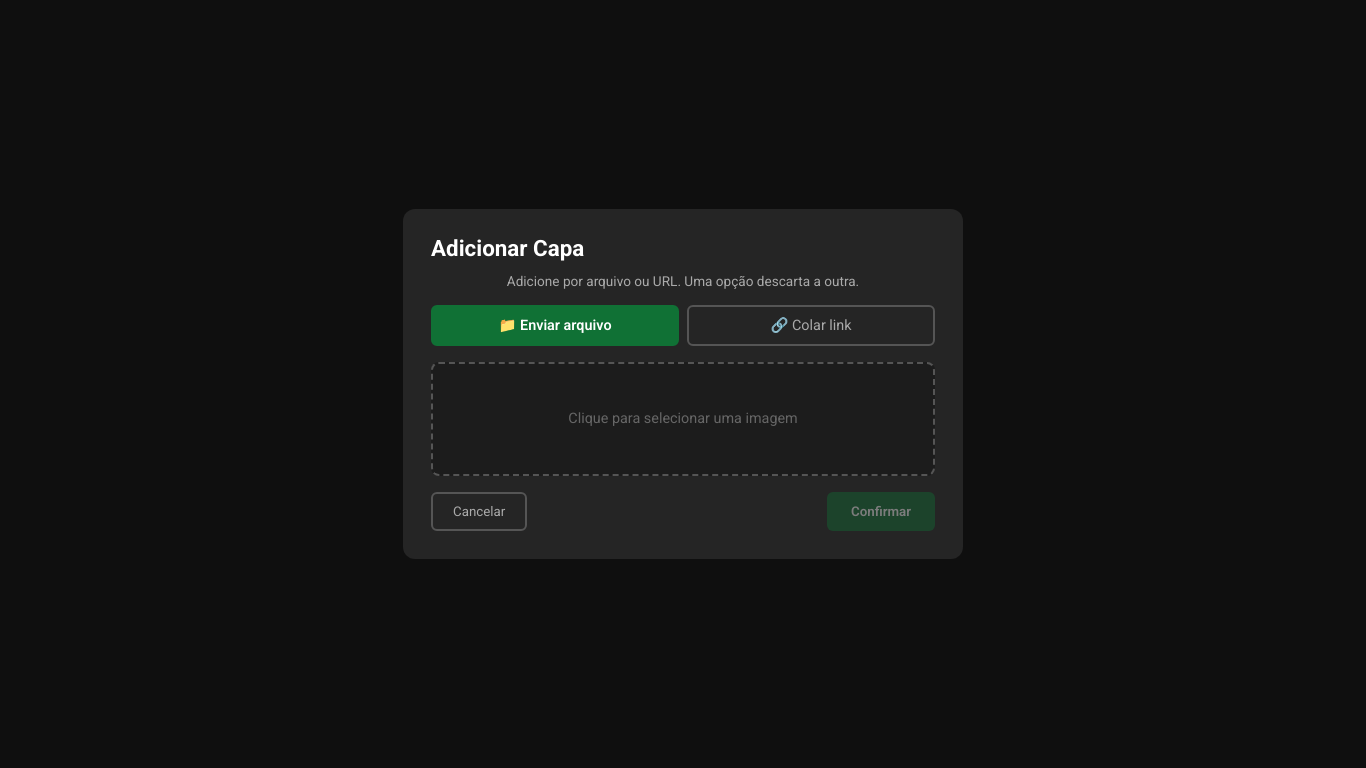
Test: ImagePickerModal — guarda de descarte › 'Cancelar' abre confirmação de descarte quando já há uma URL preenchida
Click the button "🔗 Colar link".
click(811, 325)  # box [687, 305, 935, 346]
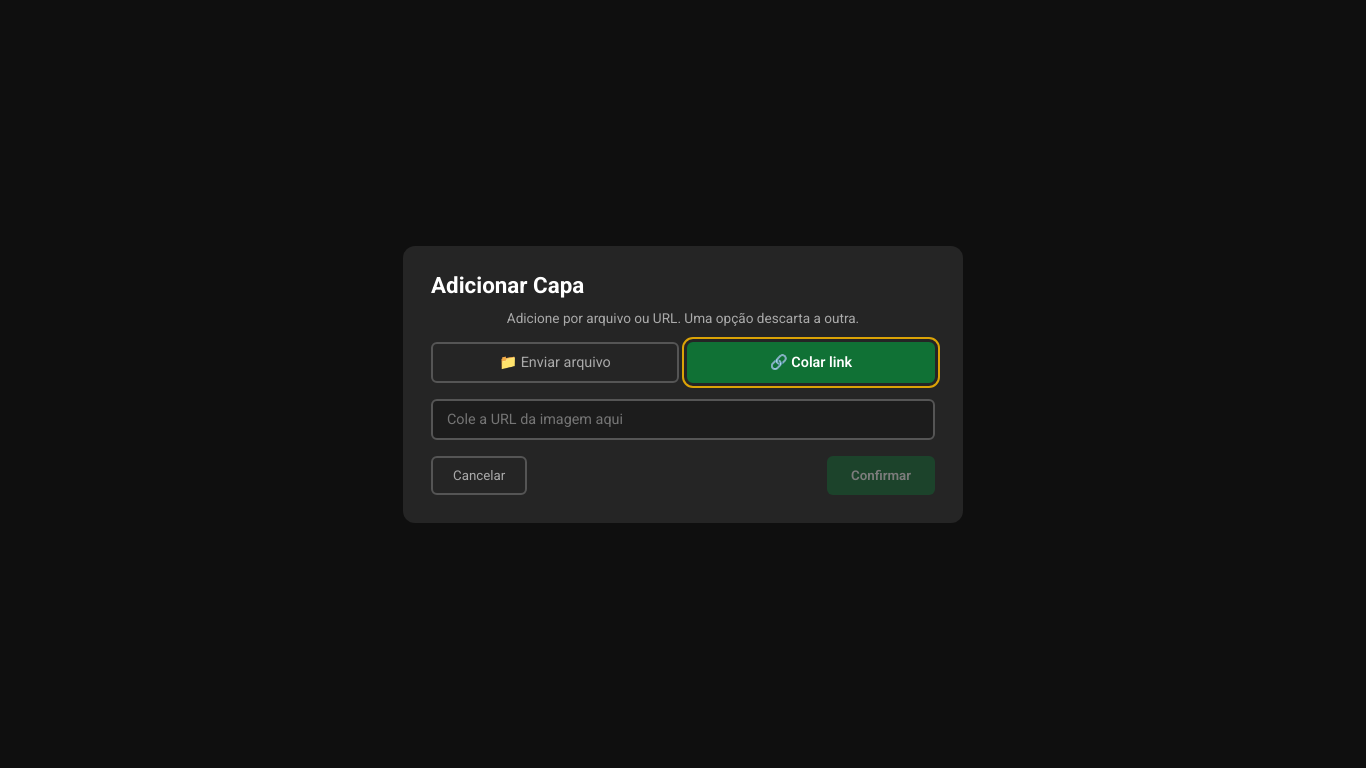
Type "https://example.com/img.png" into the field with placeholder "Cole a URL da imagem aqui".
click(683, 419); type("https://example.com/img.png")  # box [431, 398, 935, 440]
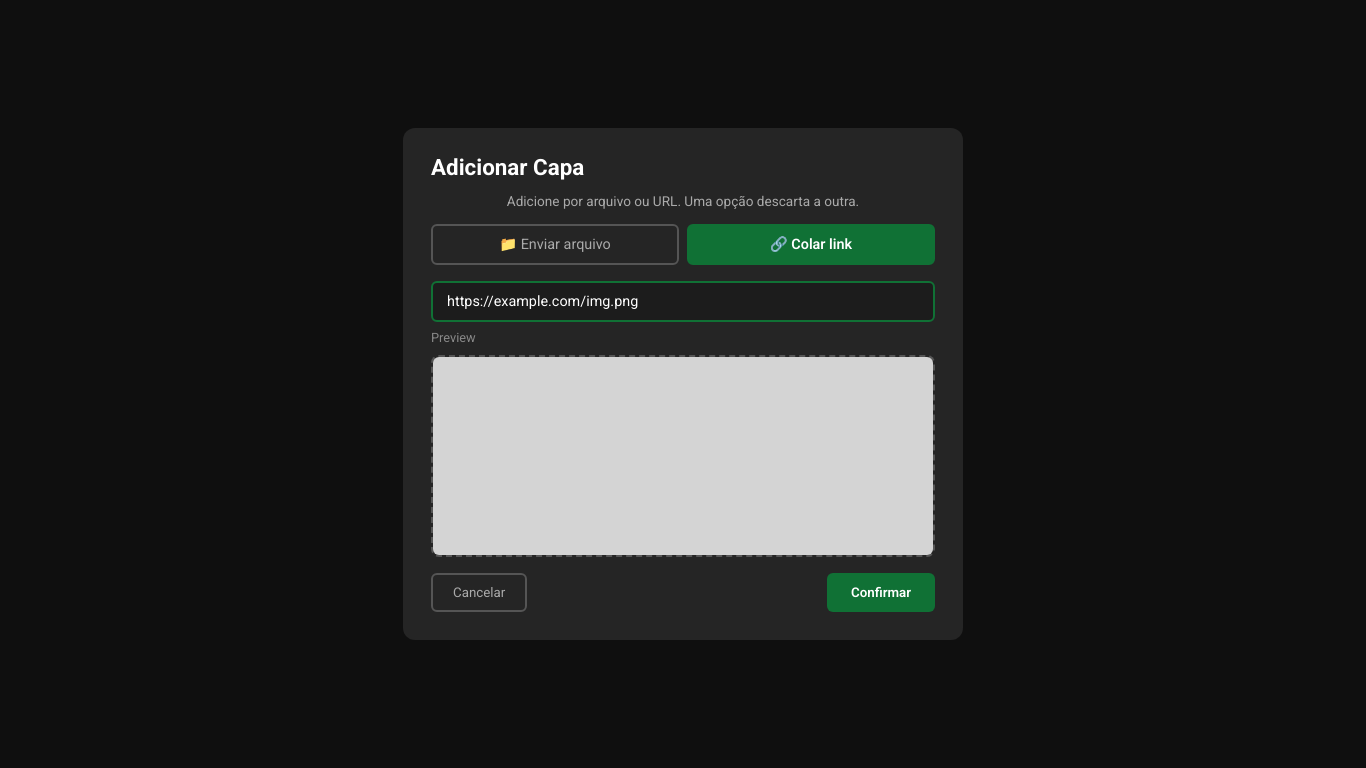
Click the button "Cancelar".
click(479, 592)  # box [431, 573, 527, 612]
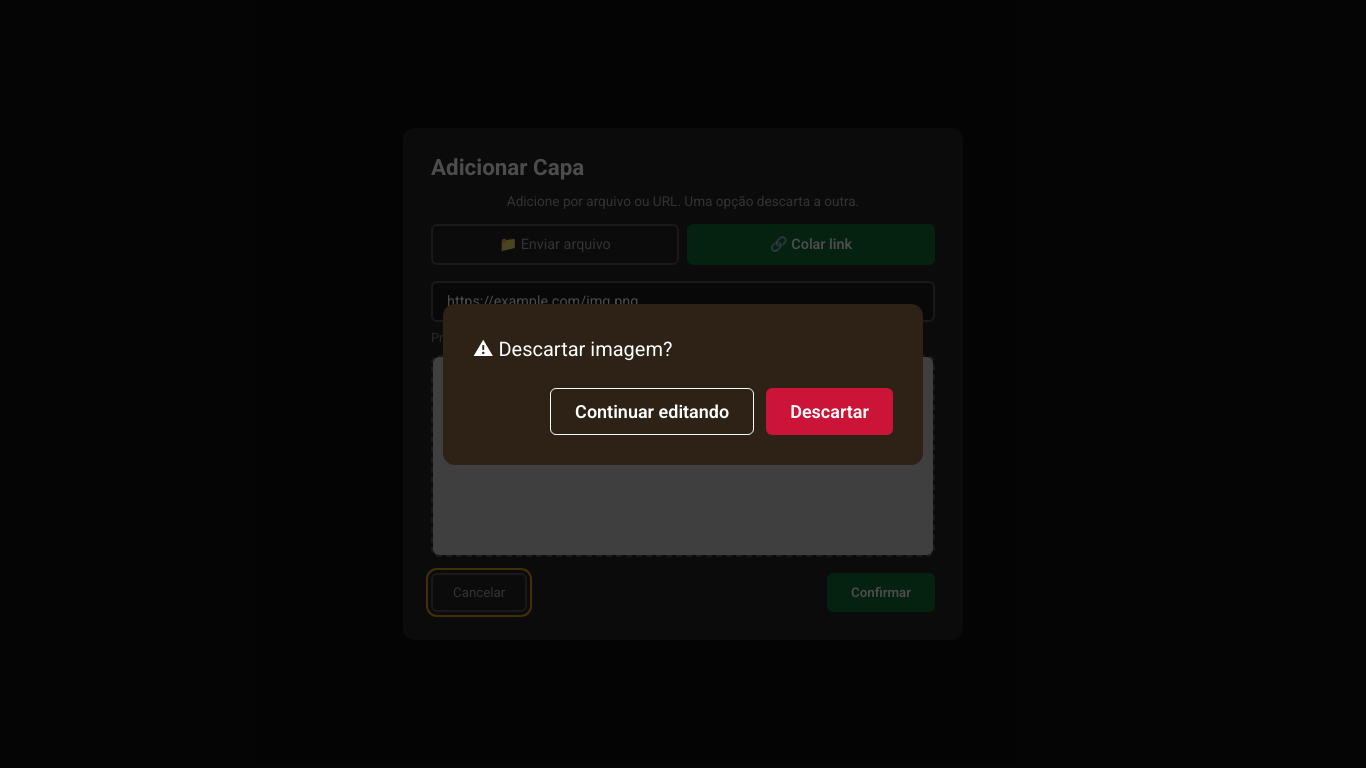
Expected: the text "⚠ Descartar imagem?" is shown, [473, 336, 672, 360]
